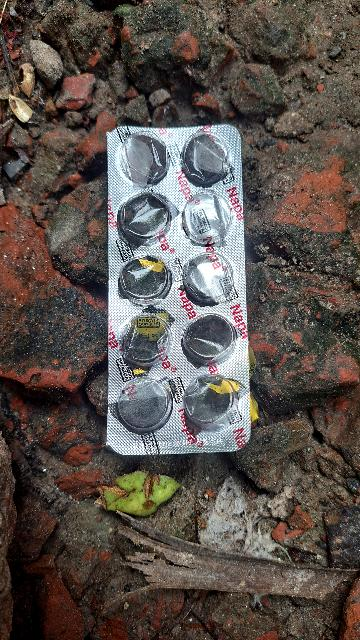medicine: (97, 116, 261, 460)
